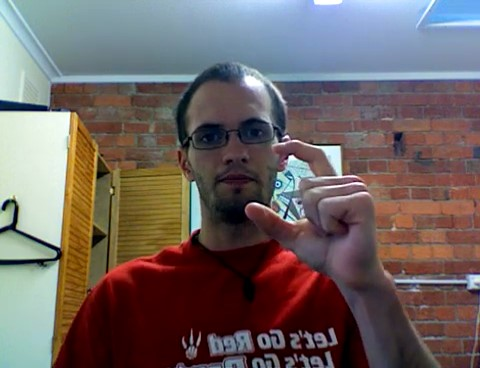C: (236, 135, 392, 287)
